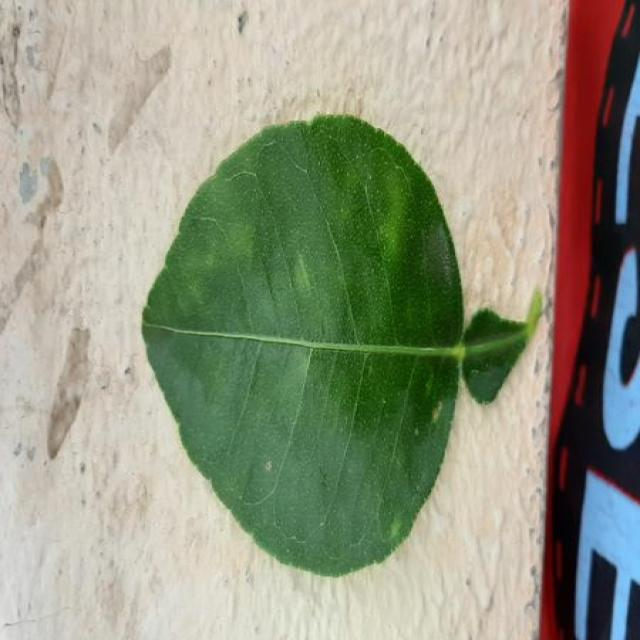lemon: (143, 115, 542, 576)
